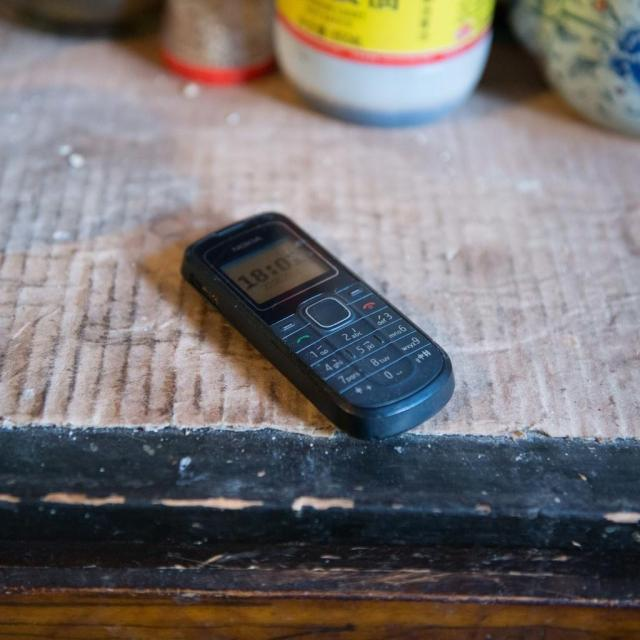Phone: (180, 209, 458, 440)
